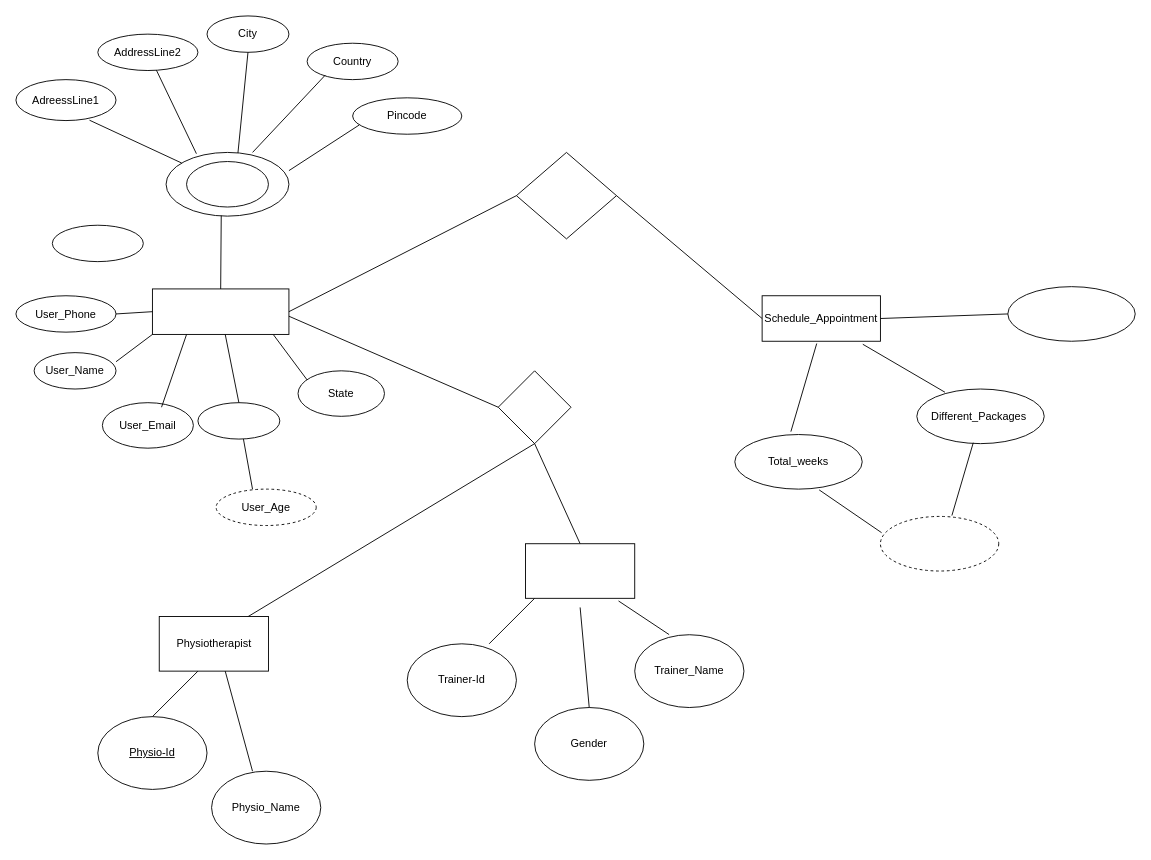
Some shapes in this 1151 by 860 pixel diagram are drawn without their labels. Each missing label, with the centre of its shape:
Address: pixel 227 184
Appointment-Id: pixel 1071 313
has: pixel 534 407
manages: pixel 566 195
Total_amount: pixel 939 543
Trainer: pixel 580 570
User: pixel 220 311
User-ID: pixel 97 243
User_DOB: pixel 238 420
